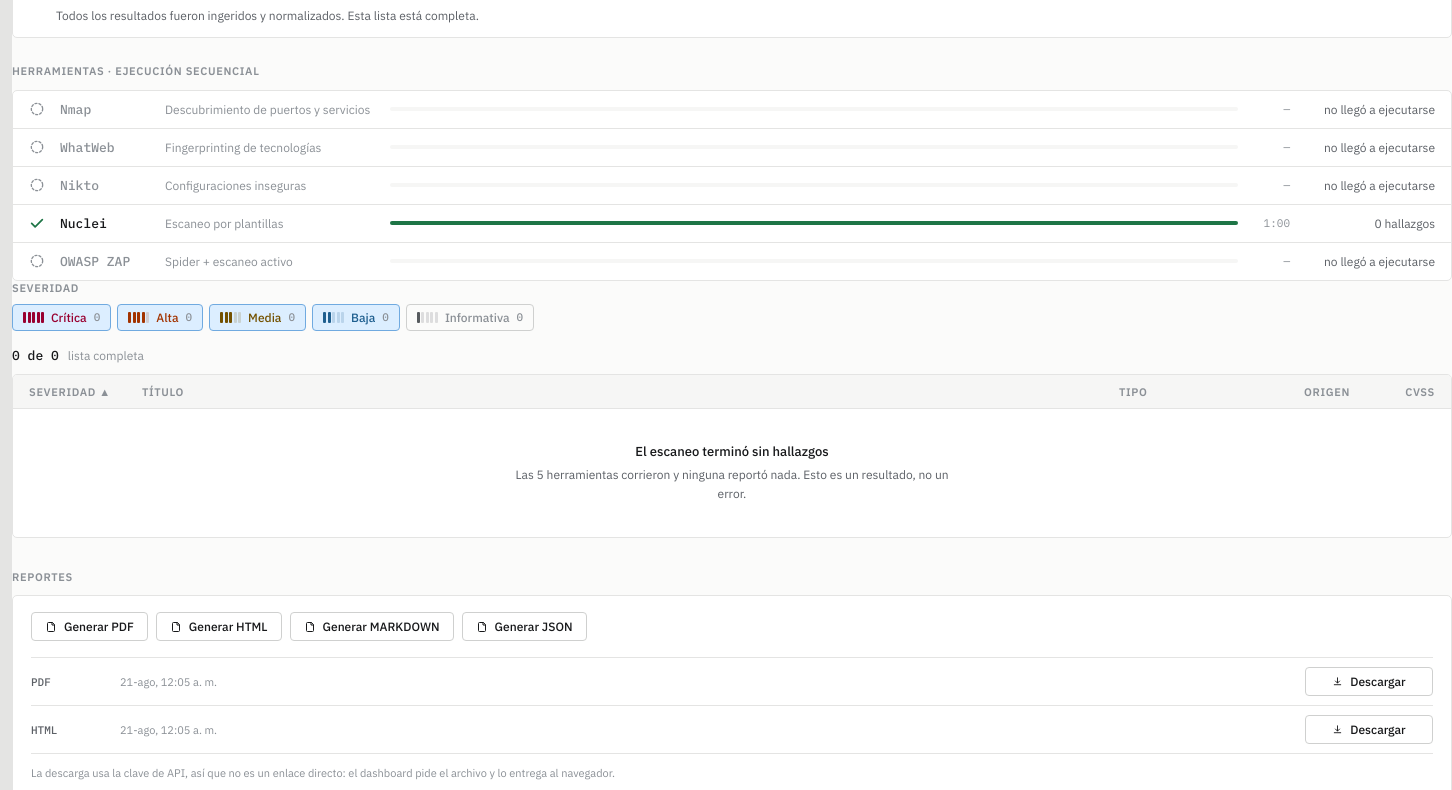
ScanDetailPage report downloads › keeps concurrent downloads independent per row
This screenshot has width=1452, height=790.
(page scrolled)
What coordinates should you click on to do the following:
click the 1st button "Descargar"
I would click on:
 (1369, 682)
Its box is [1305,667,1433,696].
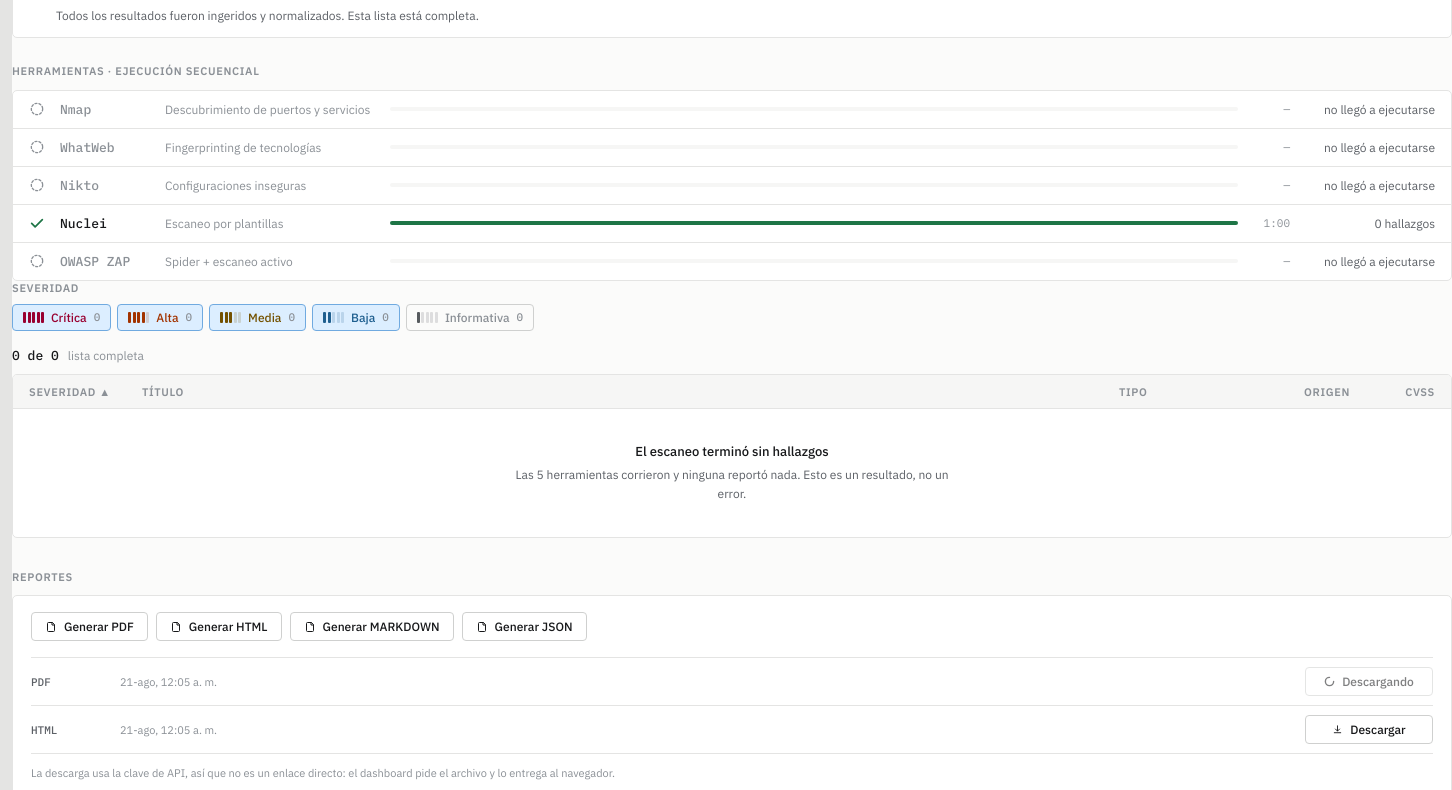
What coordinates should you click on to do the following:
click the button "Descargar"
I would click on:
 (1369, 730)
Its box is [1305,715,1433,744].
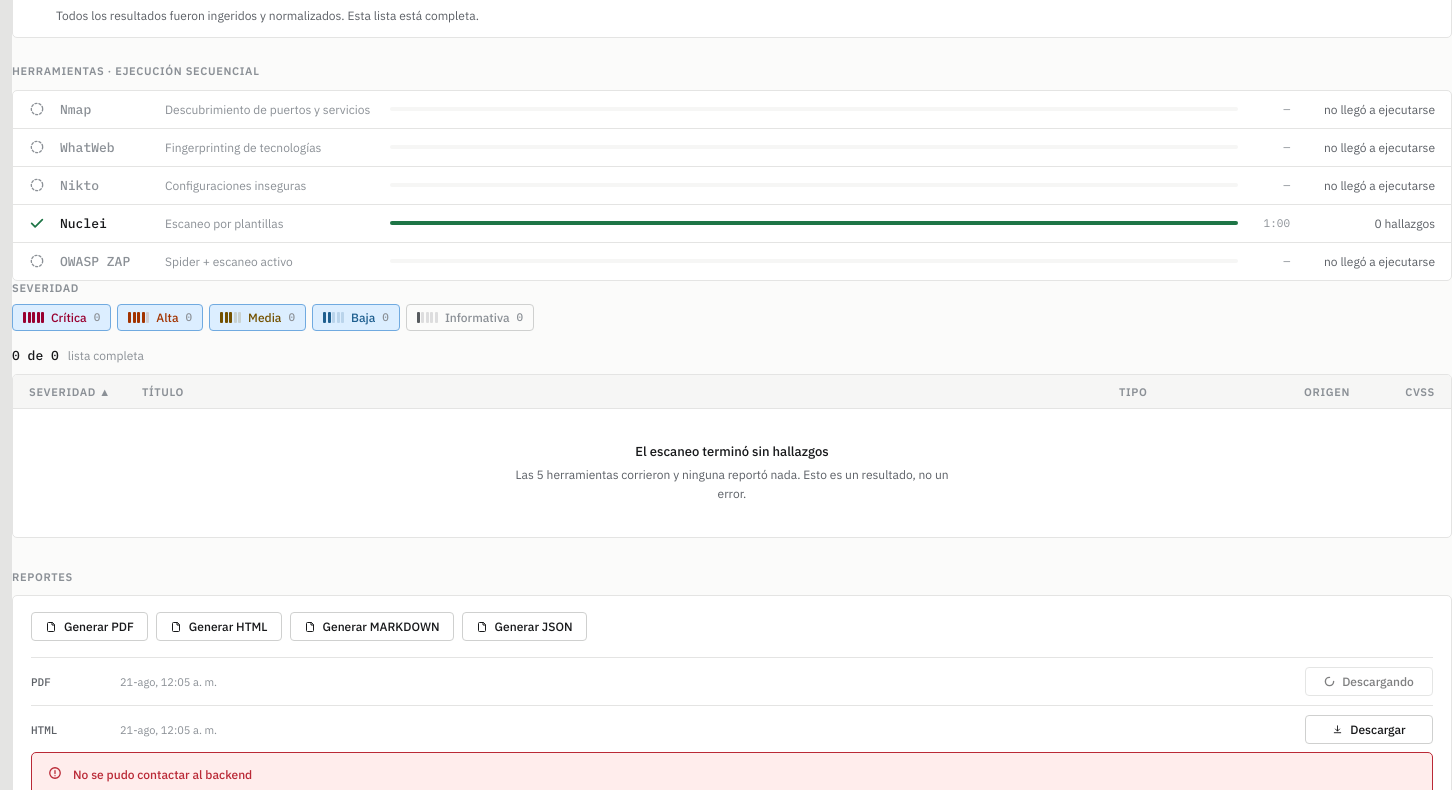
Expected: the number of buttons "Descargando" is 1, [1305,667,1433,696]
Expected: the text "No se pudo contactar al backend" is shown, [73,767,252,782]
